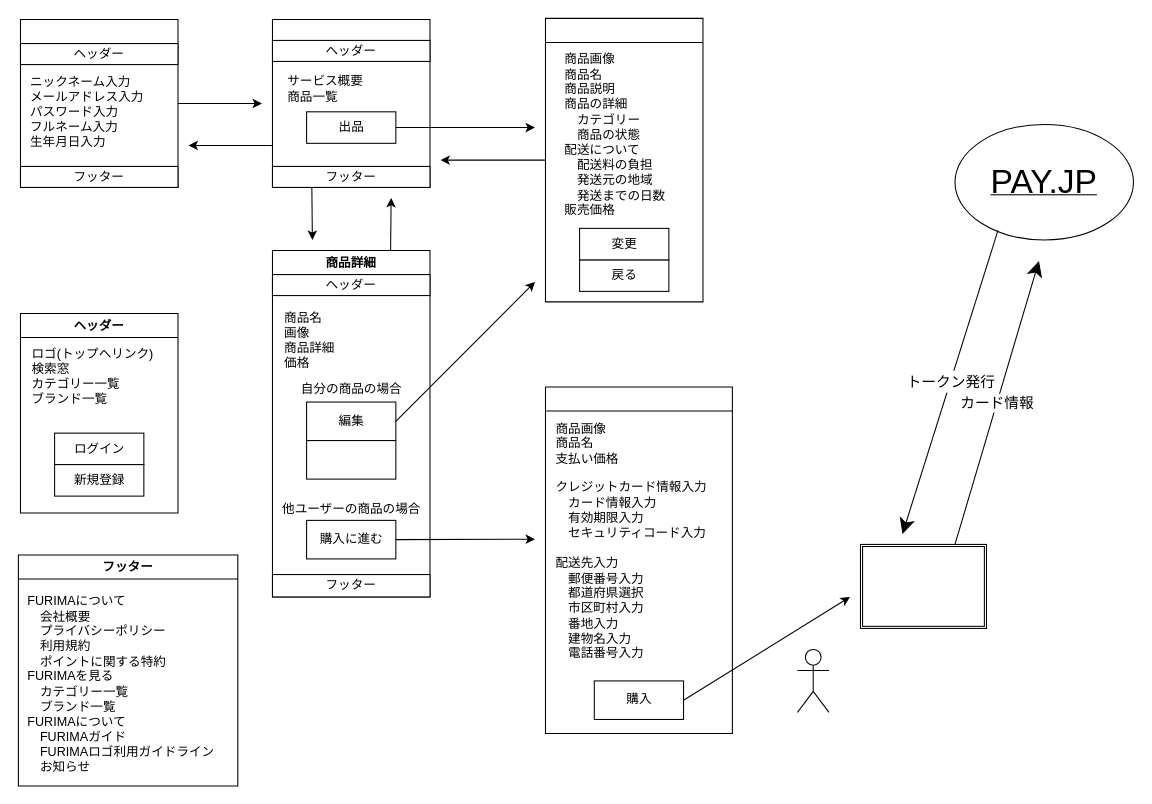
The diagram is 1152 pixels wide and 804 high, and some of its shapes have lost their labels. The box of each missing label's shape, as (x1, y1, x2, y2) in pixels:
クレジットカード 入力画面: (859, 543, 986, 628)
トップページ: (271, 18, 430, 187)
会員情報入力: (19, 18, 178, 187)
削除: (306, 440, 396, 479)
商品情報入力: (544, 17, 703, 302)
購入内容の確認: (544, 386, 732, 733)
購入者さま: (796, 648, 829, 712)
